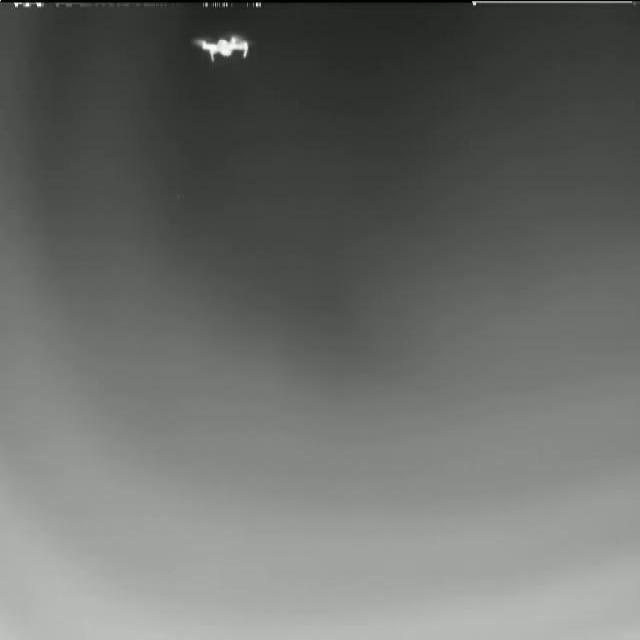DRONE: (187, 30, 260, 63)
